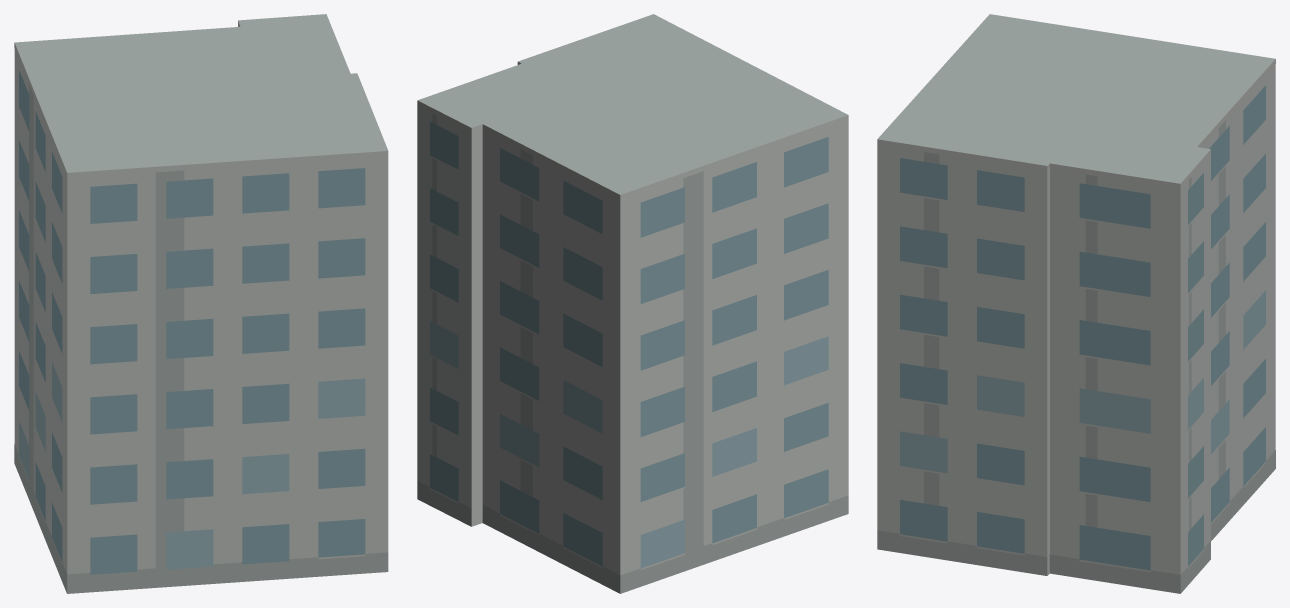
File: survey-upis-32983990.glb
3 views of the same model, side by side, from view 1: azimuth 30°, elevation 25°; view 2: azimuth 150°, elevation 25°; view 3: azimuth 270°, elevation 25° (orthographic). The views are drawn at different scales.
Visible parts, largest first — view 1: survey-upis-32983990.tmp; view 2: survey-upis-32983990.tmp; view 3: survey-upis-32983990.tmp.
Part boxes in pixels (bbox=[...]): survey-upis-32983990.tmp: bbox=[14, 14, 388, 593]; survey-upis-32983990.tmp: bbox=[417, 14, 848, 593]; survey-upis-32983990.tmp: bbox=[877, 14, 1275, 593].
Size of the model in its own units: 16.26 by 18.3 by 16.13.
